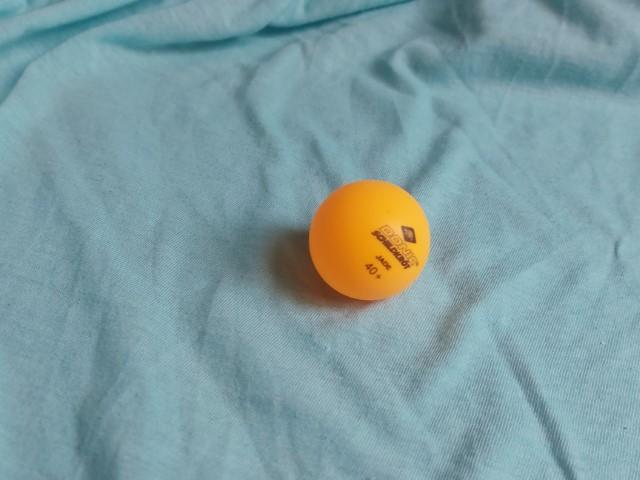oball: (298, 175, 444, 306)
